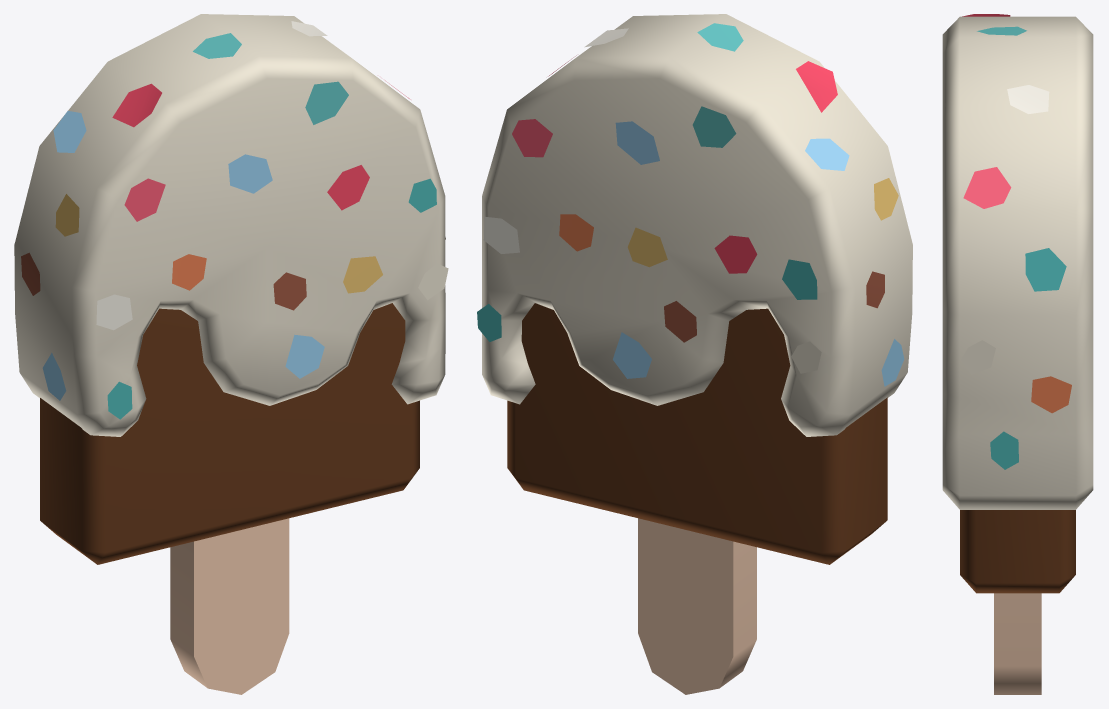
Rendered from HandAcc_1.fbx.
3 views of the same model, side by side, from view 1: azimuth 30°, elevation 25°; view 2: azimuth 150°, elevation 25°; view 3: azimuth 270°, elevation 25° (orthographic).
Parts seen in each view (by area): view 1: HandAcc_1; view 2: HandAcc_1; view 3: HandAcc_1.
Part boxes in pixels (x1,y1,x2,y2): HandAcc_1: (14,14,448,694); HandAcc_1: (477,14,912,694); HandAcc_1: (942,14,1093,694).
Bounding box in the file's own units: 20.18 × 33.37 × 7.06.
